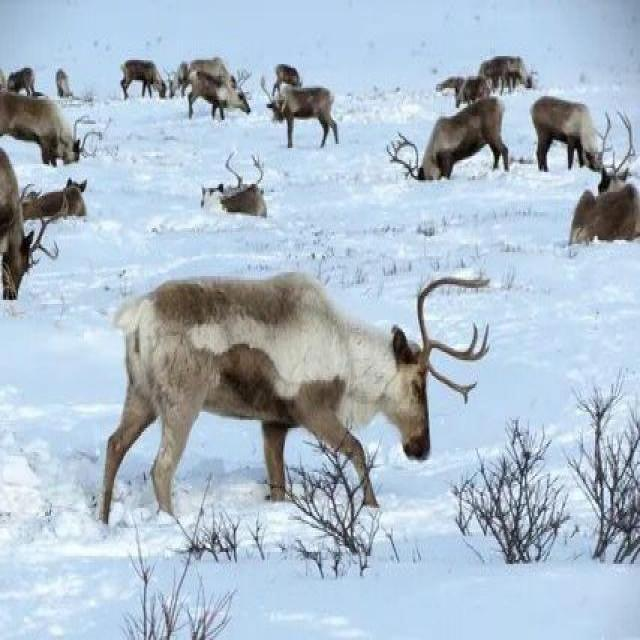deer: (106, 197, 479, 618), (383, 86, 564, 231), (0, 119, 81, 393), (266, 68, 354, 167), (534, 92, 618, 179), (565, 174, 640, 269)
